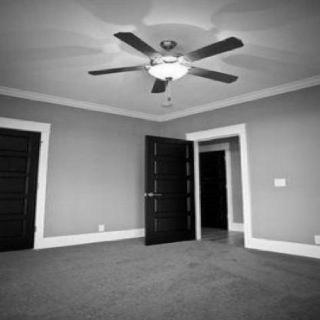other: (118, 49, 208, 96)
